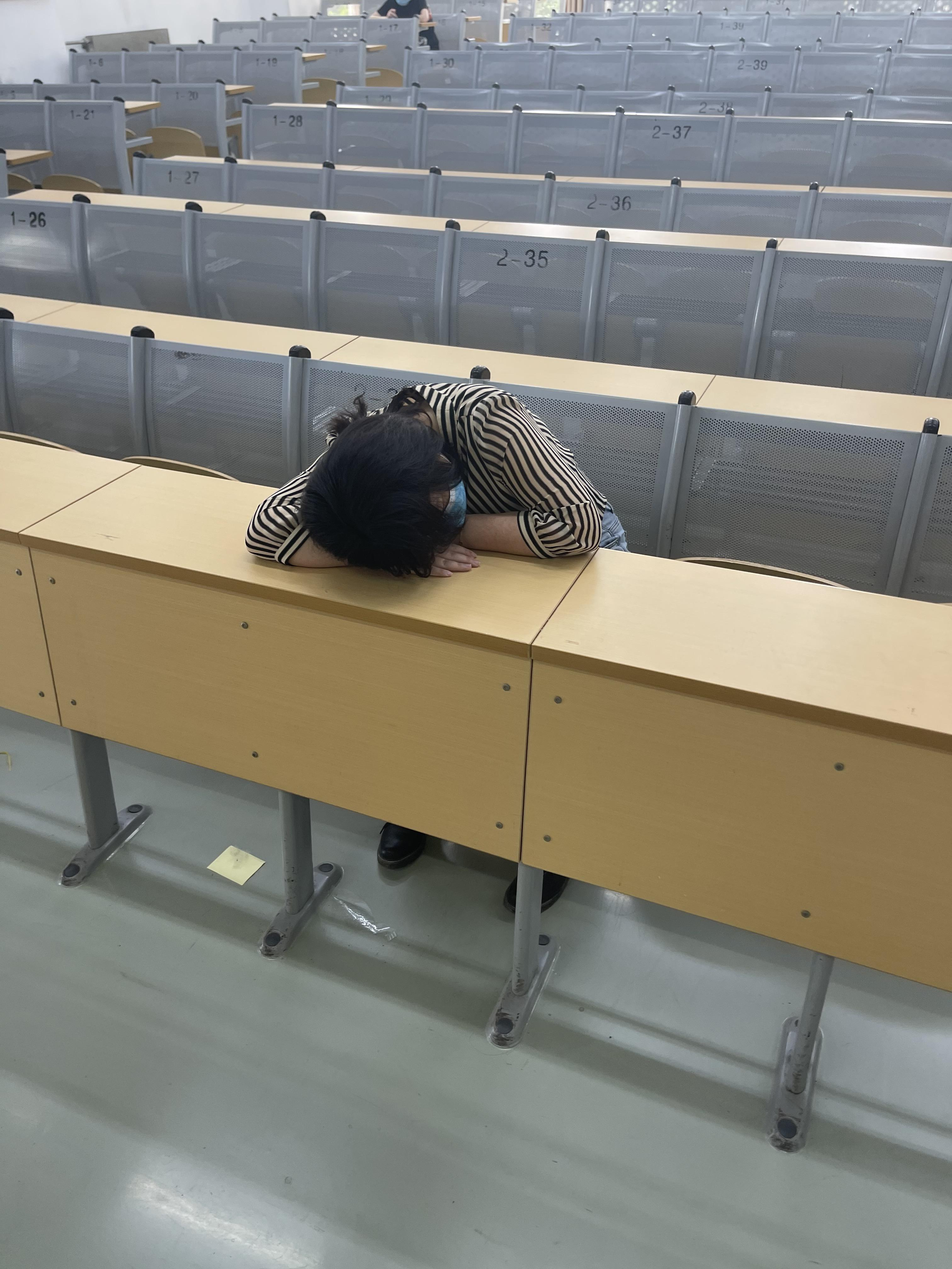sleep: (240, 381, 614, 579)
